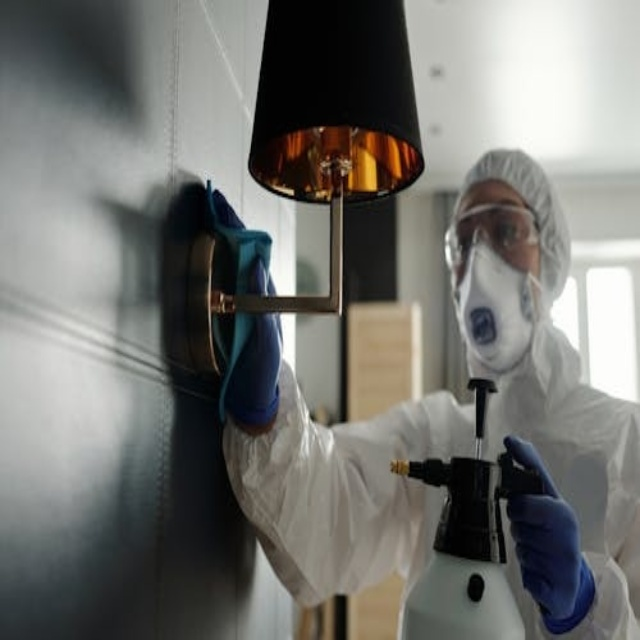Gafas: (444, 208, 541, 277)
Guantes: (203, 183, 284, 431), (501, 434, 594, 633)
Mascara: (453, 233, 540, 372)
